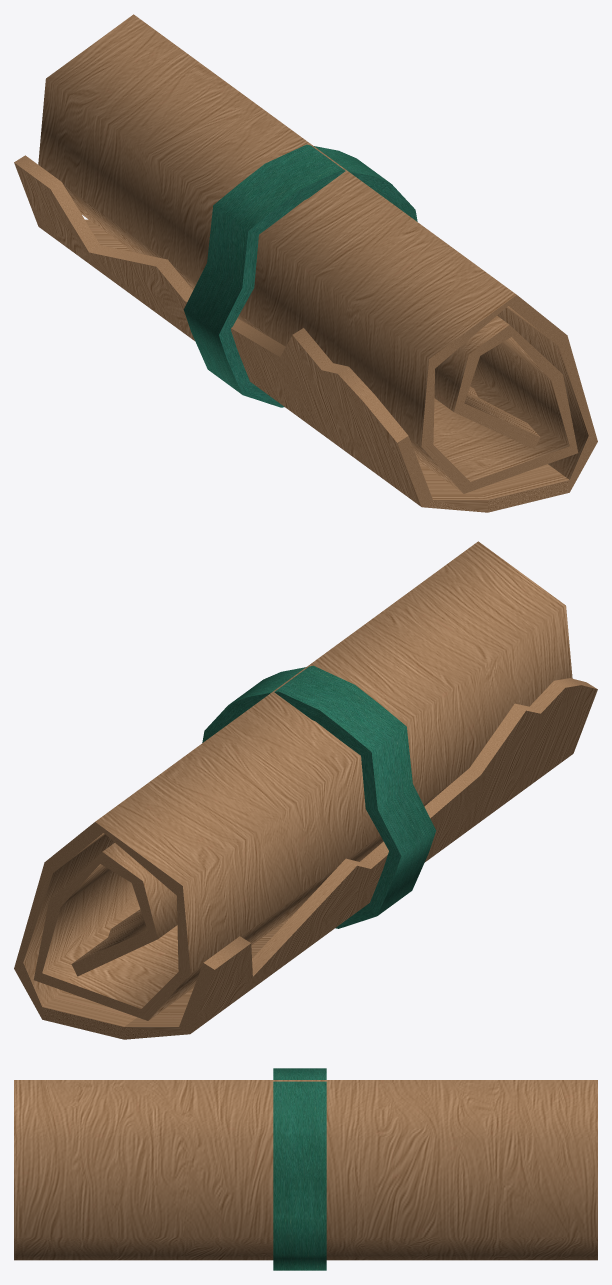
Rendered from ClosedScroll.fbx.
3 renders of one model, top to bottom at view 1: azimuth 30°, elevation 25°; view 2: azimuth 150°, elevation 25°; view 3: azimuth 270°, elevation 25°, orthographic. The views are drawn at different scales.
Visible parts, largest first — view 1: ClosedScrollBase, ClosedScrollBand; view 2: ClosedScrollBase, ClosedScrollBand; view 3: ClosedScrollBase, ClosedScrollBand.
Boxes of the visible parts, x1,y1,x2,y2 form: ClosedScrollBase: [14, 14, 597, 512]; ClosedScrollBand: [183, 144, 417, 407]; ClosedScrollBase: [14, 541, 597, 1039]; ClosedScrollBand: [202, 665, 436, 928]; ClosedScrollBase: [14, 1080, 597, 1260]; ClosedScrollBand: [273, 1068, 326, 1270].
Size of the model in its own units: 24.07 by 22.48 by 69.3.
Materials: 2 (2 with a texture image).
